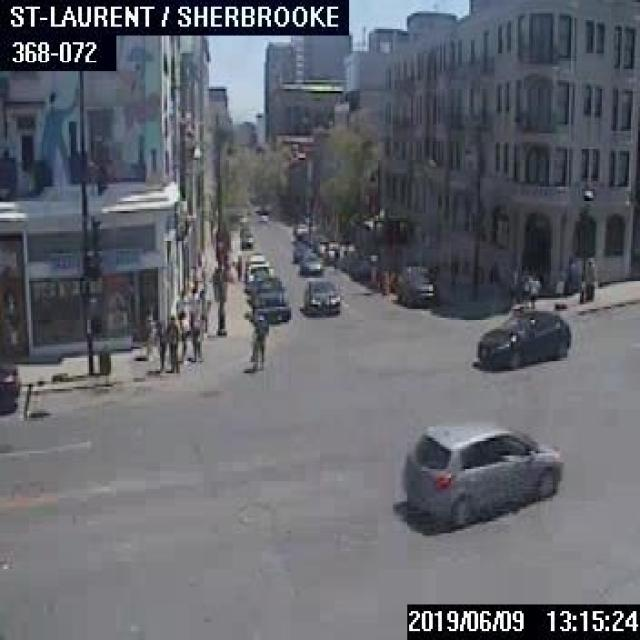construction: (380, 268, 388, 294)
pedestrian: (248, 309, 268, 362), (165, 313, 178, 373), (189, 308, 202, 362), (142, 308, 154, 357), (154, 319, 165, 371), (178, 308, 188, 361), (524, 271, 538, 307), (198, 286, 209, 330), (584, 258, 594, 300), (566, 255, 576, 293), (185, 285, 198, 310), (174, 286, 184, 312)
vehicle: (400, 418, 567, 529), (473, 304, 571, 366), (391, 264, 437, 306), (246, 284, 288, 324), (300, 277, 342, 314), (0, 353, 18, 411), (246, 274, 282, 301), (245, 262, 273, 284), (299, 251, 322, 276), (292, 244, 310, 261), (323, 241, 339, 260), (240, 230, 254, 243), (316, 237, 327, 252), (295, 222, 306, 234)
